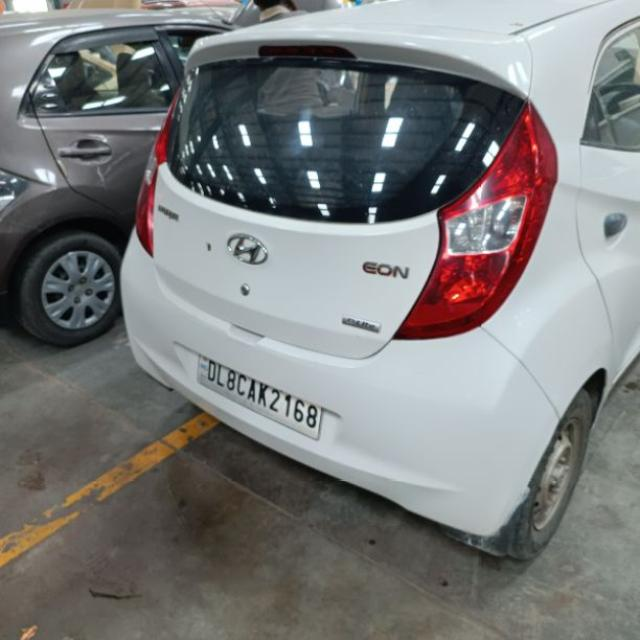license_plate: (195, 354, 322, 441)
